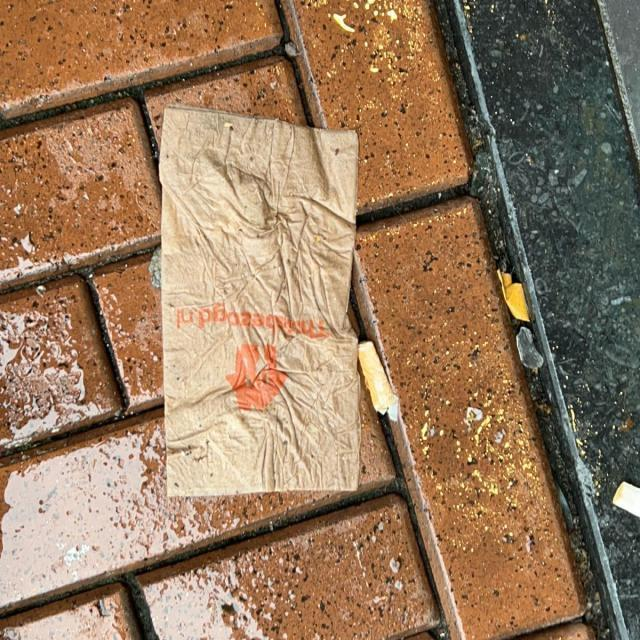Paper: (155, 104, 363, 500)
